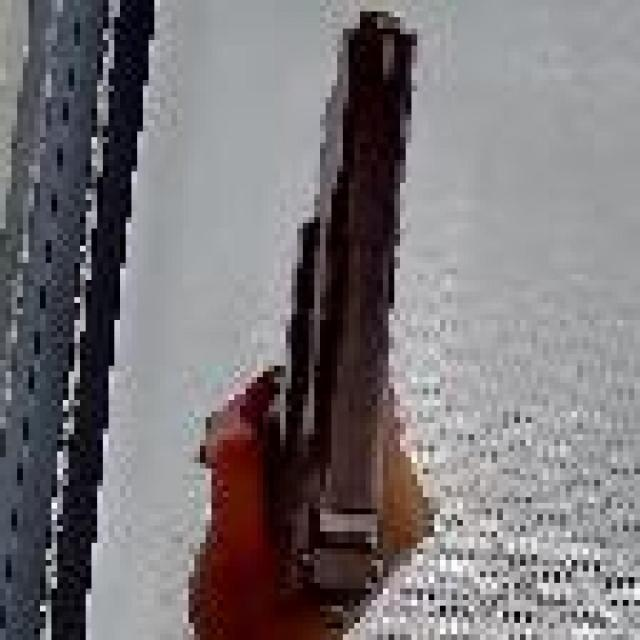pistol: (212, 1, 465, 640)
